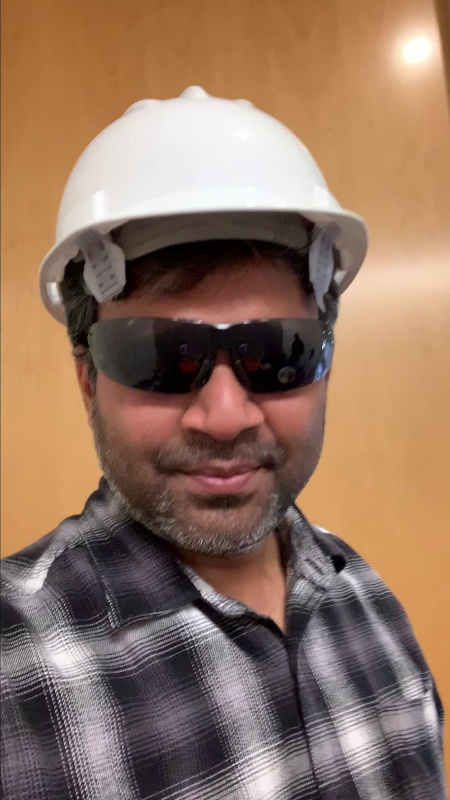glasses: (88, 316, 340, 390)
helmet: (57, 83, 355, 208)
